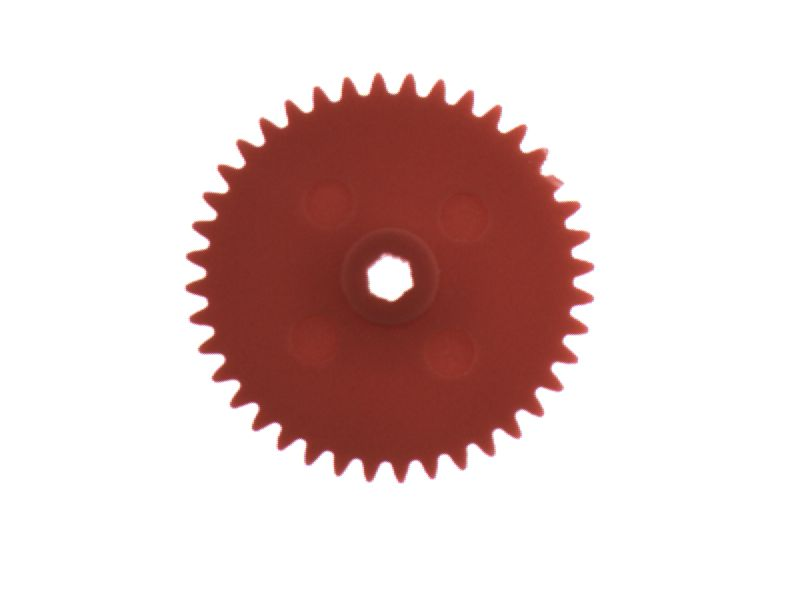defect_break: (523, 165, 584, 201)
